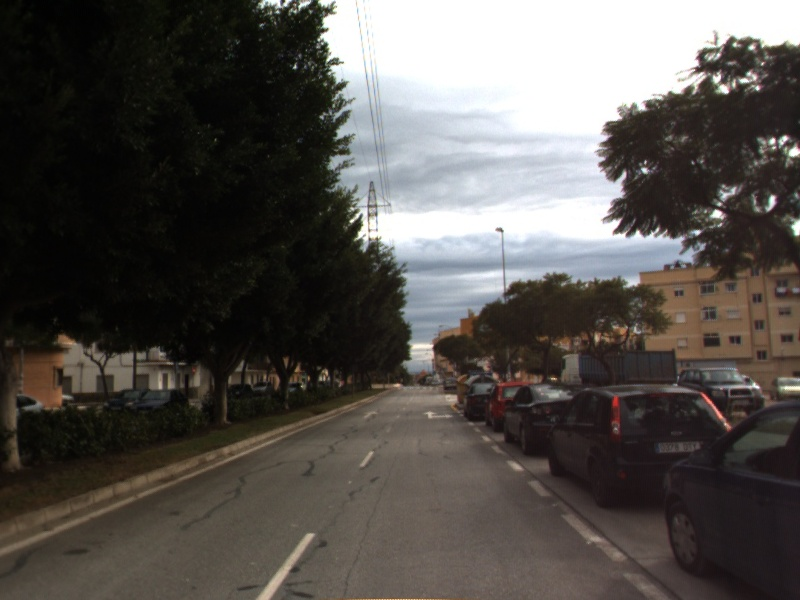STRAIGHT: (360, 408, 382, 420)
STRAIGHT_RIGHT: (420, 408, 456, 422)
